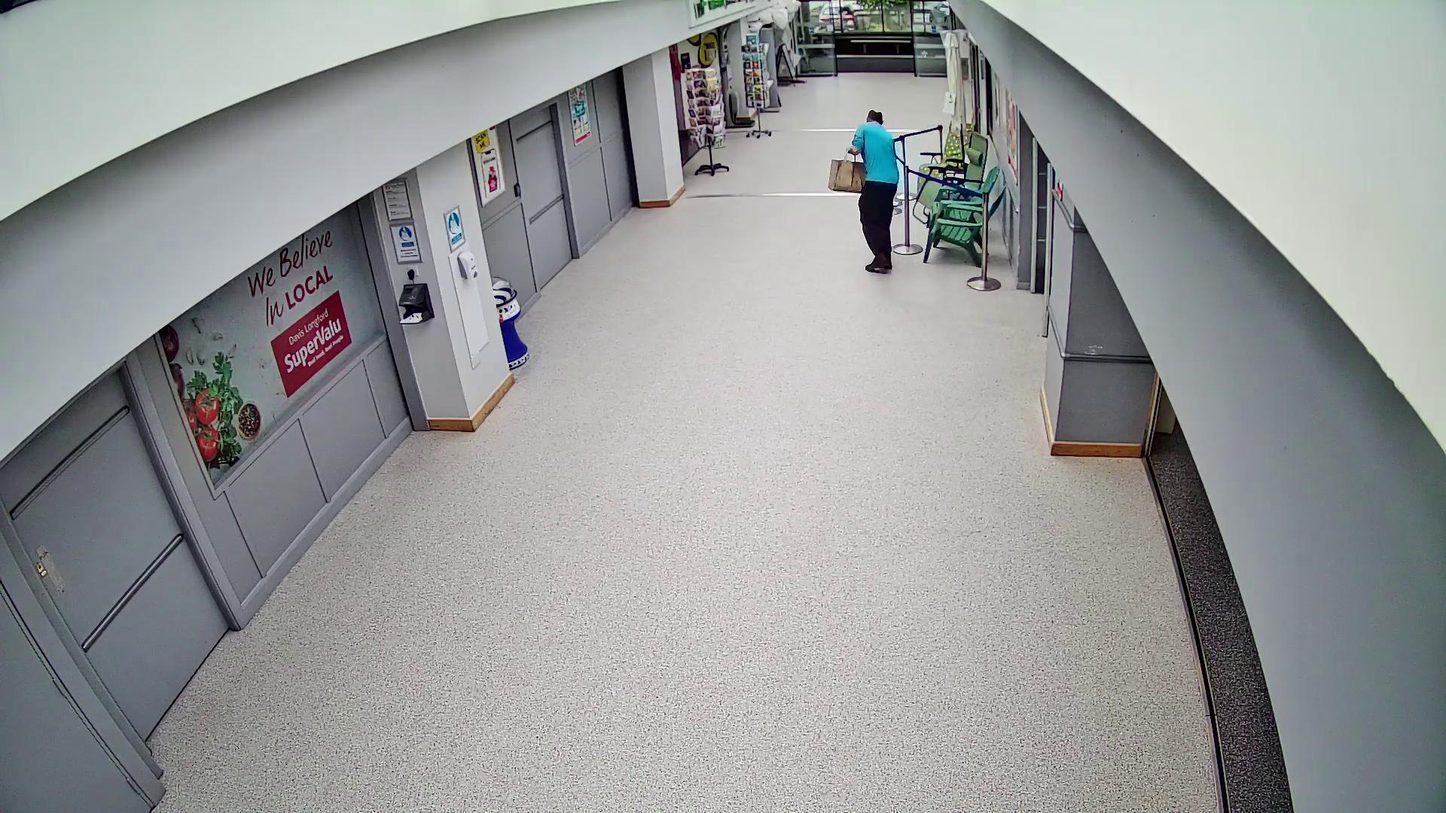filled-shopping-bags: (828, 154, 867, 194)
person: (846, 108, 899, 273)
person-with-filled-shopping-bag-s-: (827, 110, 899, 274)
